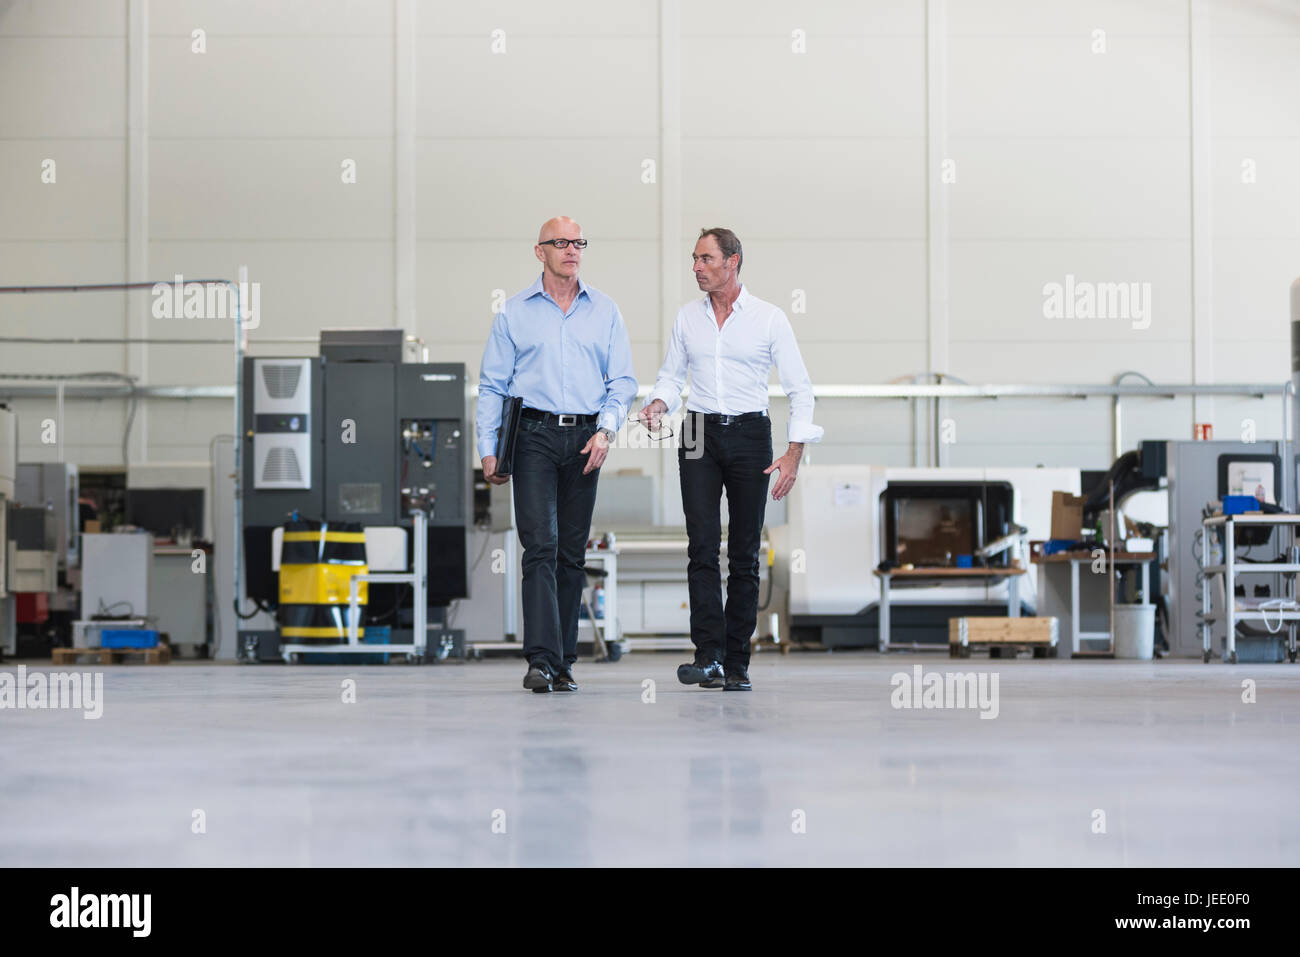person: (646, 228, 811, 694), (478, 216, 637, 692)
